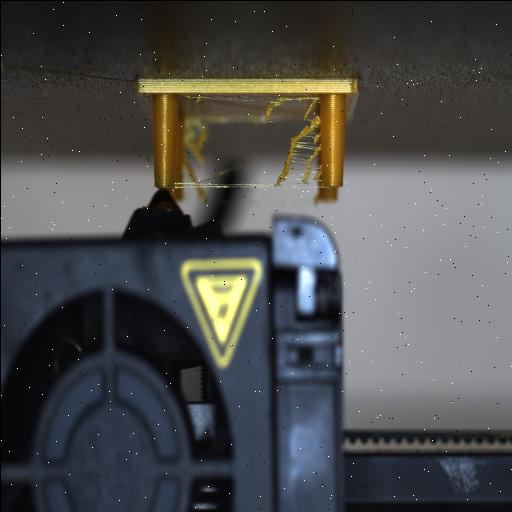stringing: (263, 95, 335, 191)
